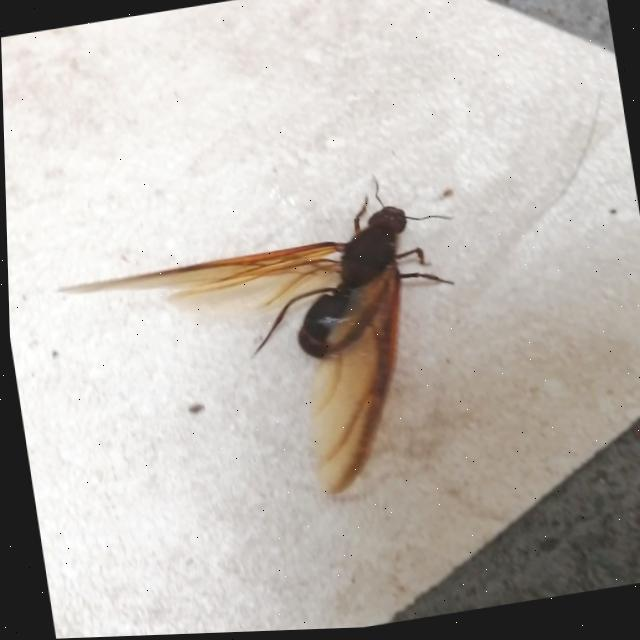Alive-Female-Alate: (43, 163, 490, 536)
